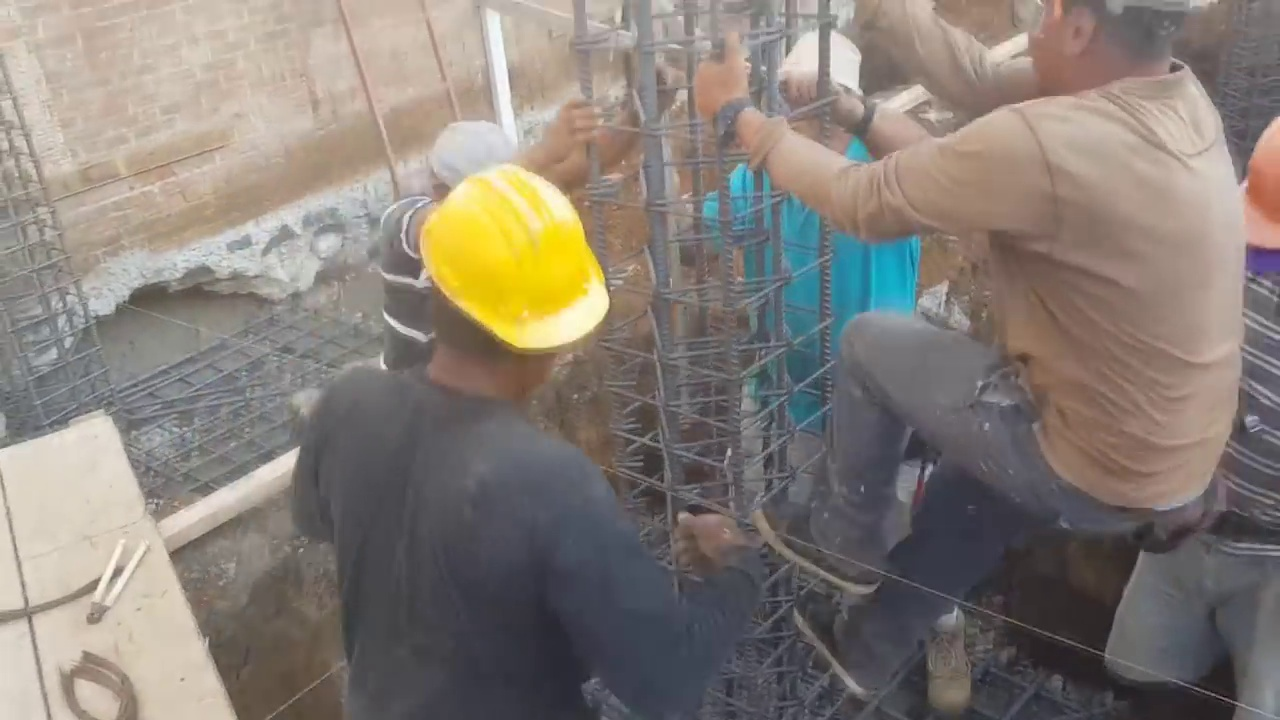helmet: (417, 162, 613, 354), (427, 118, 506, 190), (1241, 117, 1280, 252)
helmet-off: (766, 34, 875, 159)
helmet-on: (389, 162, 611, 405), (1024, 0, 1191, 95), (422, 115, 505, 204)
person: (754, 10, 1250, 711), (288, 114, 739, 717), (655, 0, 927, 720), (1097, 115, 1280, 720), (376, 121, 513, 378)
